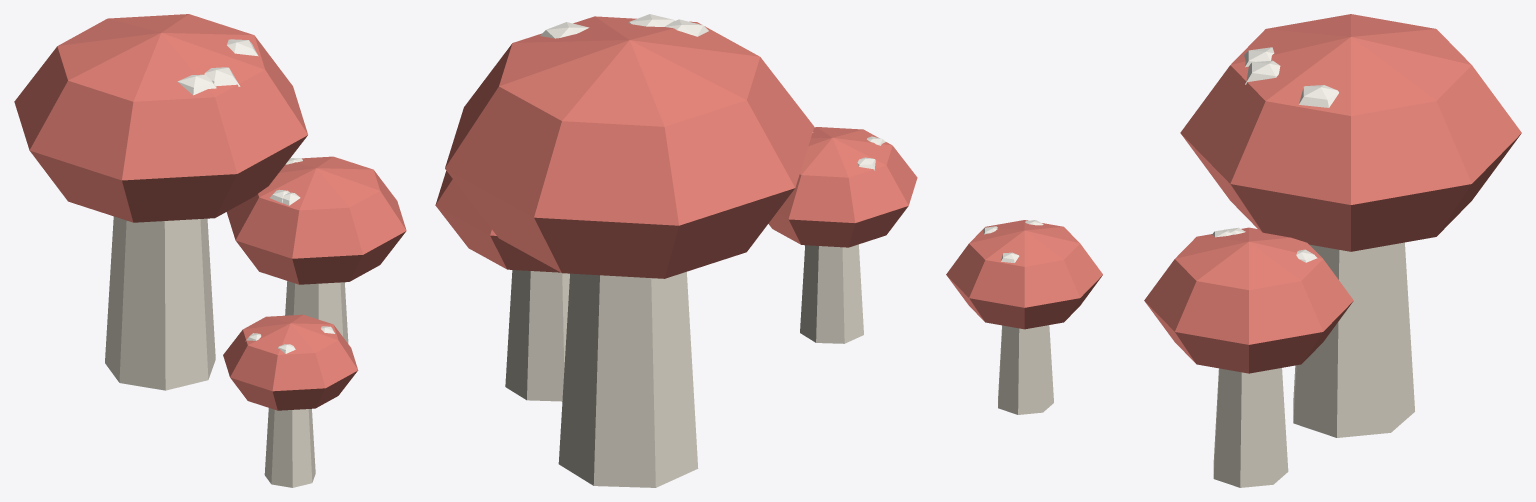
File: mushrooms_red.glb
3 views of the same model, side by side, from view 1: azimuth 30°, elevation 25°; view 2: azimuth 150°, elevation 25°; view 3: azimuth 270°, elevation 25° (orthographic). The views are drawn at different scales.
Visible parts, largest first — view 1: mushrooms_red; view 2: mushrooms_red; view 3: mushrooms_red.
Part boxes in pixels (x1,y1,x2,y2): mushrooms_red: (14, 14, 406, 487); mushrooms_red: (435, 14, 917, 487); mushrooms_red: (946, 14, 1521, 487).
Size of the model in its own units: 0.4893 by 0.484 by 0.6742.
